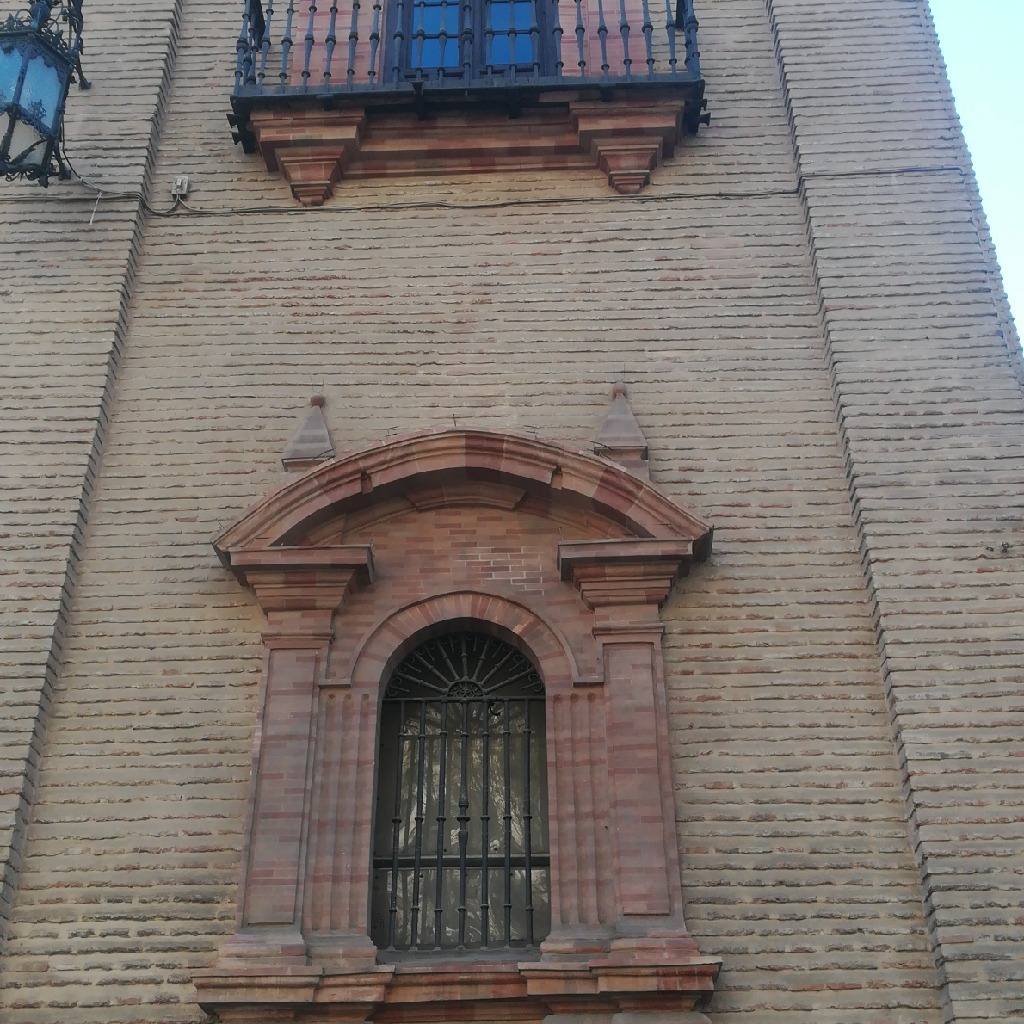arco-medio-punto: (350, 597, 564, 727)
fronton-partido: (211, 429, 724, 582)
